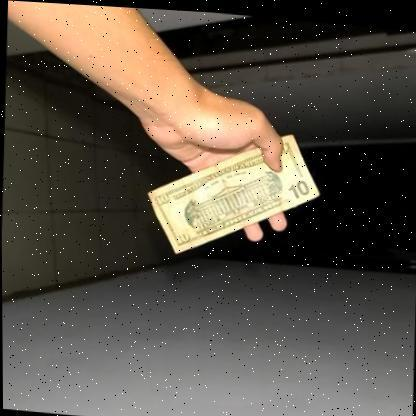ten-back: (142, 117, 323, 266)
